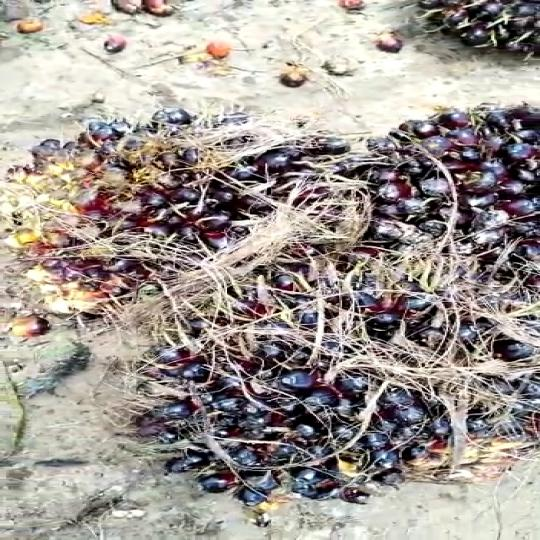mentah: (0, 98, 540, 505)
